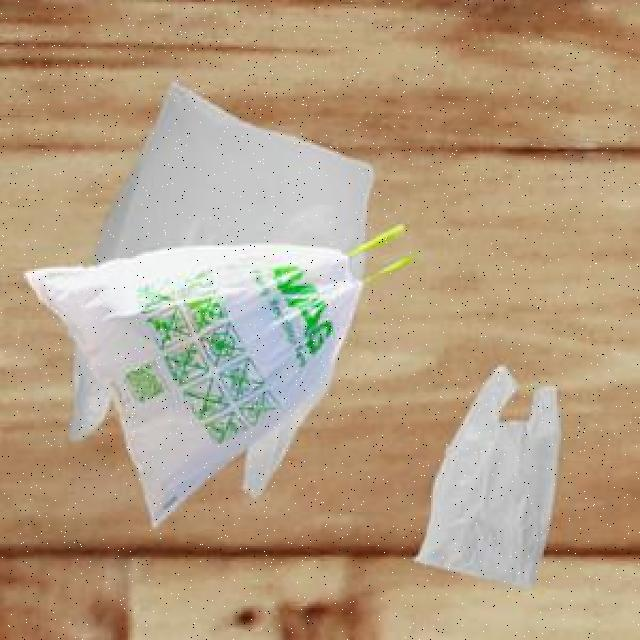plastic_bag: (26, 243, 357, 521)
